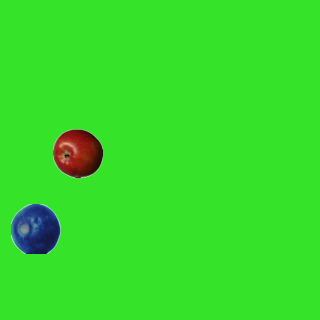Apple Braeburn: (52, 128, 102, 178)
Huckleberry: (10, 203, 60, 253)
